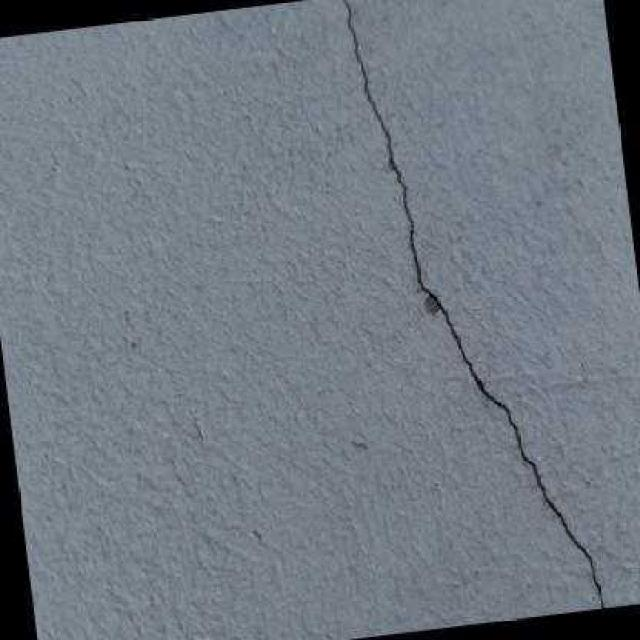D00: (340, 0, 606, 608)
